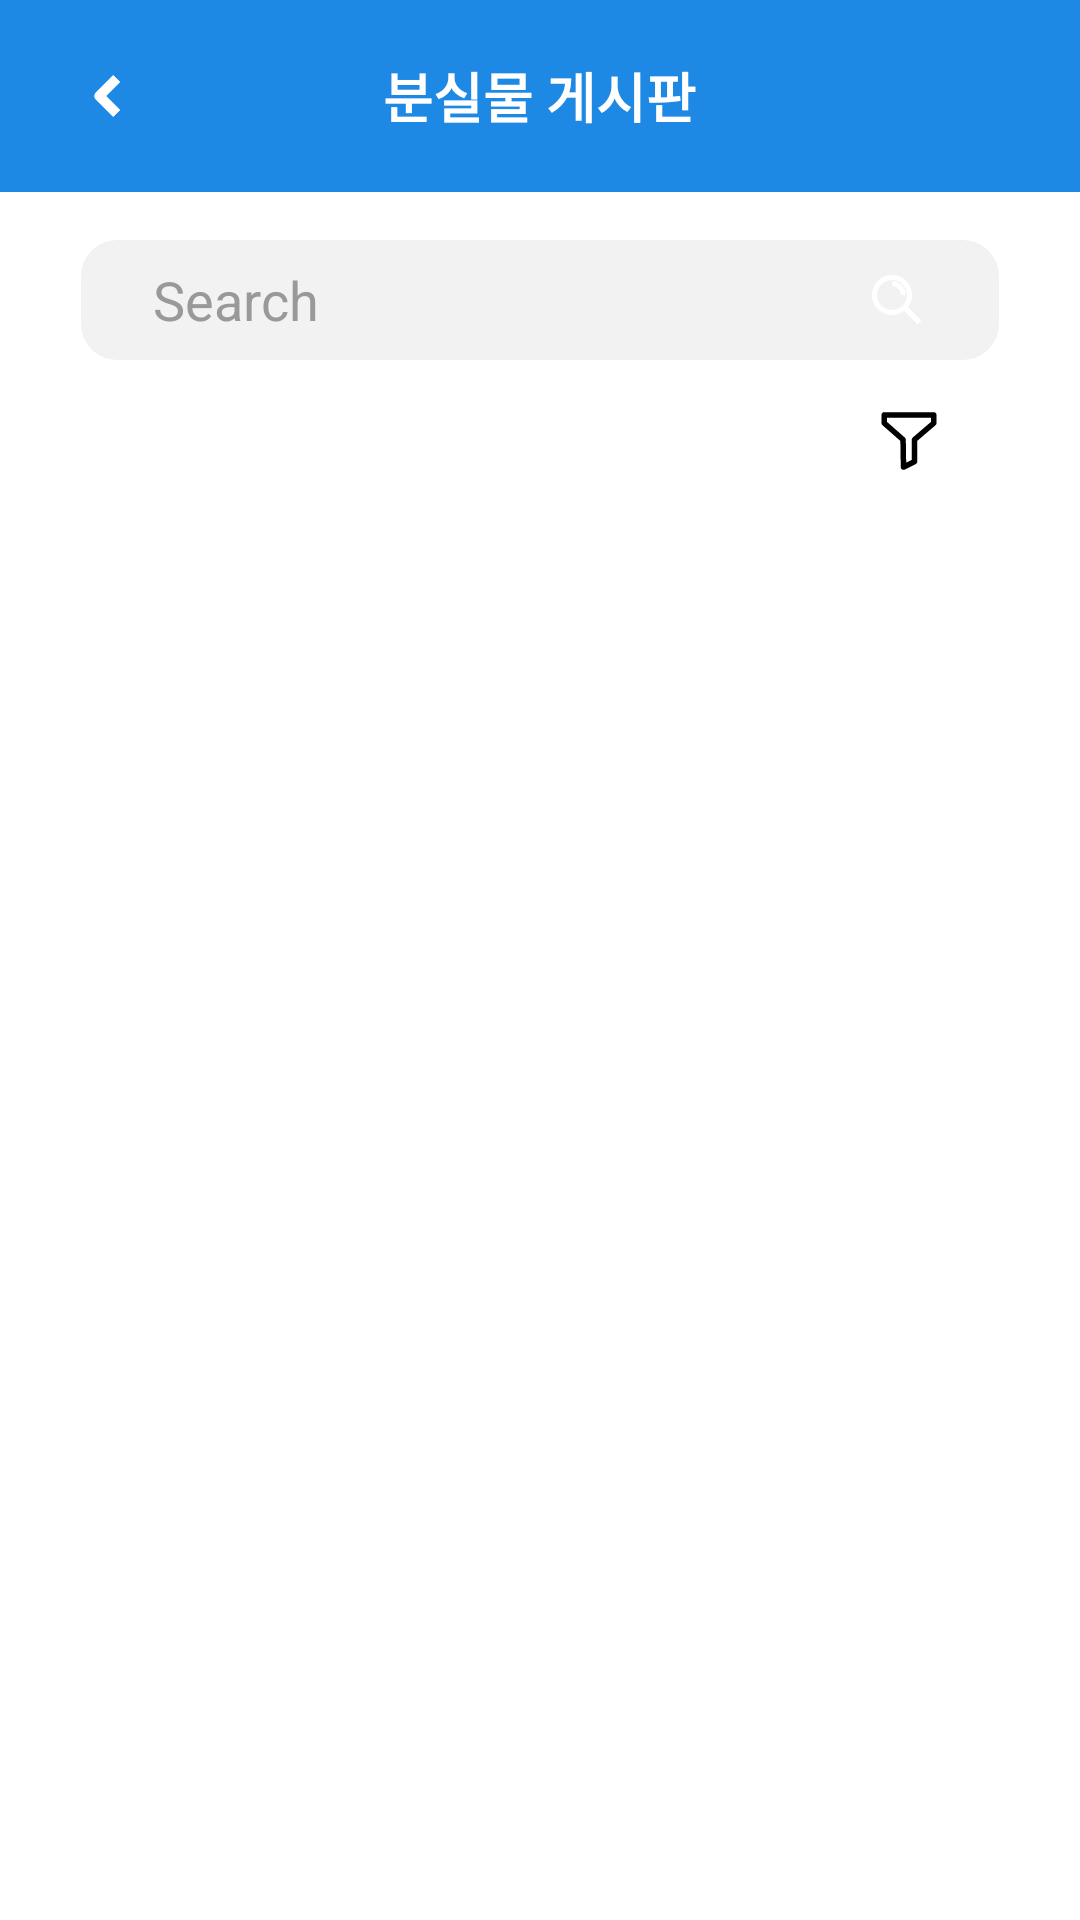

Where to tap for icons on this 1080 x 1920 app screen, as point (x, y):
arrow back: point (107, 96)
filter: point (909, 441)
